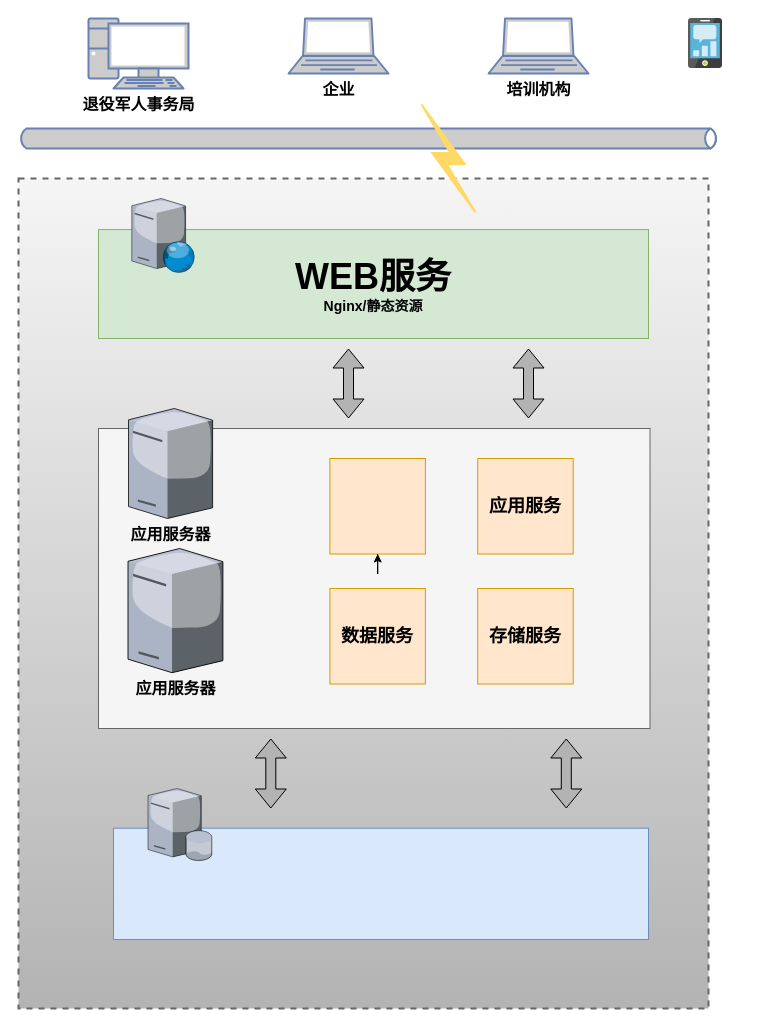
The diagram is 765 pixels wide and 1026 high, and some of its shapes have lost their labels. Here are the shapes that lost their labels. From the top down, the box of each, then its label:
(688, 18, 722, 68): 退役军人
(131, 198, 194, 272): web服务器
(329, 458, 425, 554): 鉴权服务
(148, 788, 212, 860): 数据服务器
(112, 827, 648, 940): 数据中心
